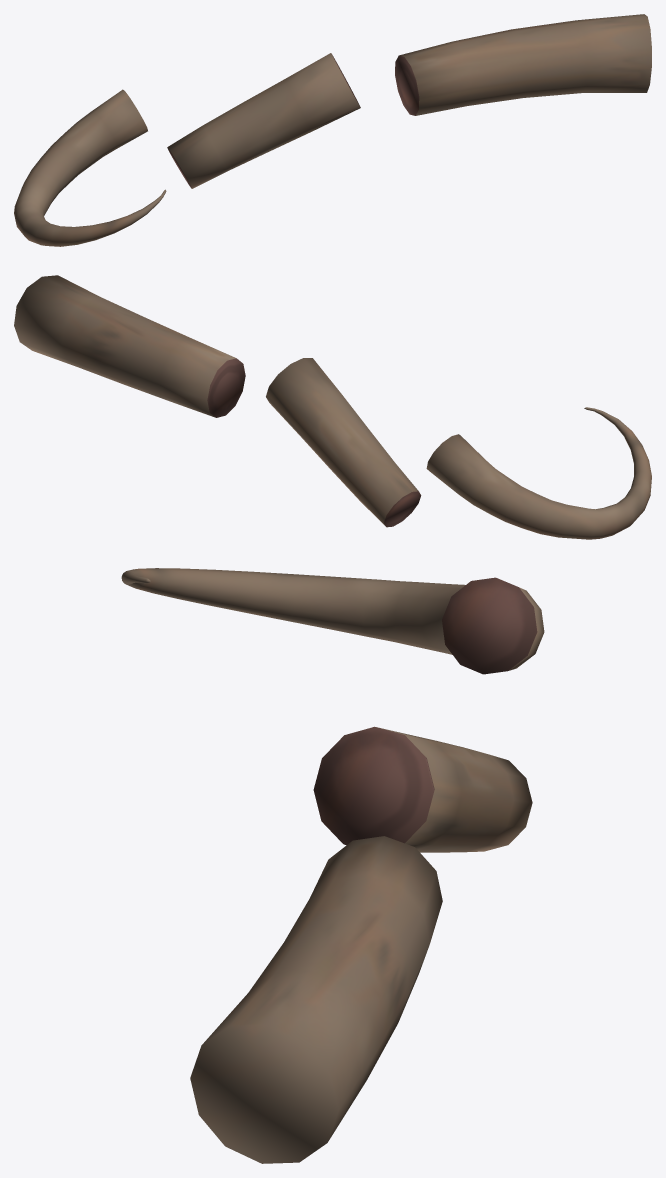
File: RaboDeRato_cortado.fbx
The picture shows the model from 3 angles, top to bottom: view 1: azimuth 30°, elevation 25°; view 2: azimuth 150°, elevation 25°; view 3: azimuth 270°, elevation 25°; orthographic projection. The views are drawn at different scales.
Parts seen in each view (by area): view 1: RaboDeRato_cortada; view 2: RaboDeRato_cortada; view 3: RaboDeRato_cortada.
Boxes of the visible parts, <box> form: RaboDeRato_cortada: <box>14,14,651,246</box>; RaboDeRato_cortada: <box>14,275,651,539</box>; RaboDeRato_cortada: <box>121,568,544,1163</box>.
Size of the model in its own units: 250 by 46.24 by 74.21.
Materials: 1 (1 with a texture image).
